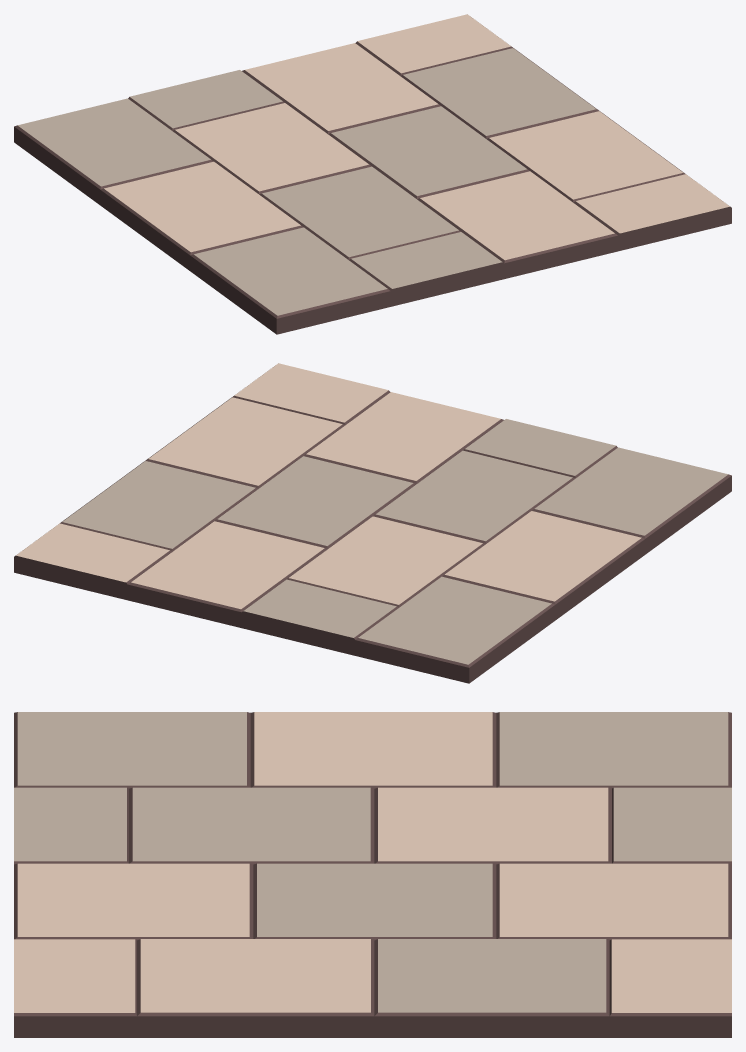
File: greek_floor_stone_1.fbx
The picture shows the model from 3 angles, top to bottom: view 1: azimuth 30°, elevation 25°; view 2: azimuth 150°, elevation 25°; view 3: azimuth 270°, elevation 25°; orthographic projection. The views are drawn at different scales.
Parts seen in each view (by area): view 1: Cube.005; view 2: Cube.005; view 3: Cube.005.
Boxes of the visible parts, x1=… form: Cube.005: x1=14, y1=14, x2=731, y2=334; Cube.005: x1=14, y1=363, x2=731, y2=683; Cube.005: x1=14, y1=712, x2=731, y2=1037.
Bounding box in the file's own units: 300 × 11 × 300.
